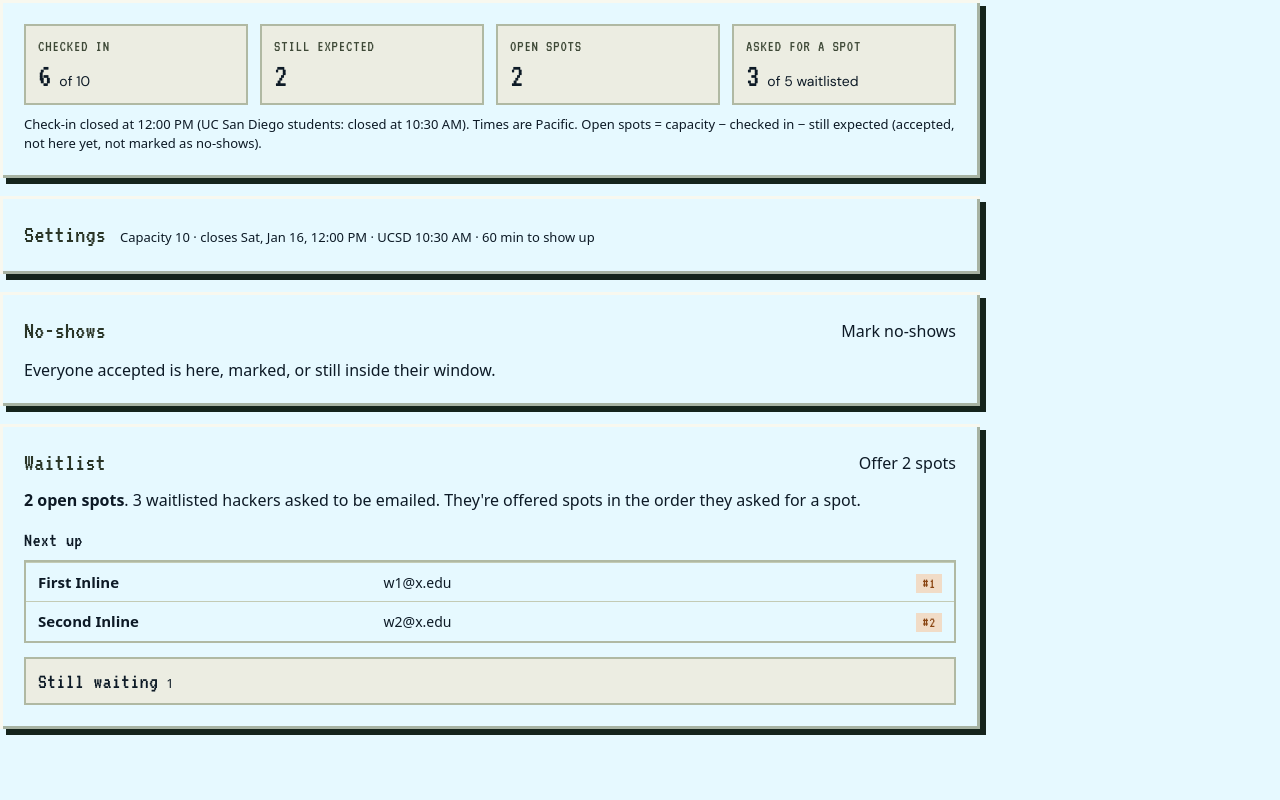
it: Day-of page › offers exactly the next people in line, then emails them and sends passes
Check: the text "First Inline" is shown, box [38,572,119,592]
Check: the text "Second Inline" is shown, box [38,611,139,631]
Click the button "Offer 2 spots". click: (907, 463)
box: [859,451,956,475]
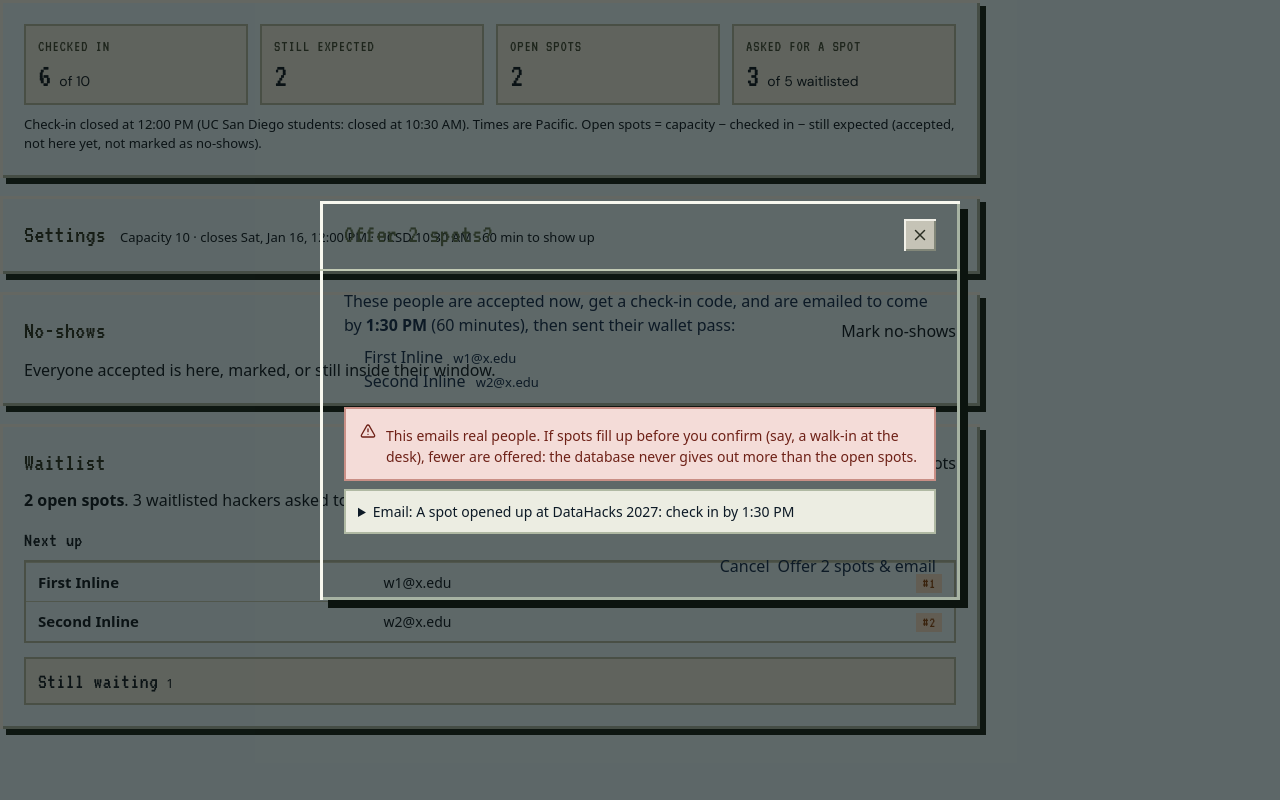
Check: the list items read "First Inline w1@x.edu", "Second Inline w2@x.edu", in this order, box [364,346,516,368]; [364,370,539,392]
Check: the text "1:30 PM" is shown, box [366,314,427,336]
Click the button "Offer 2 spots & email". click: (857, 566)
box: [778,554,936,578]
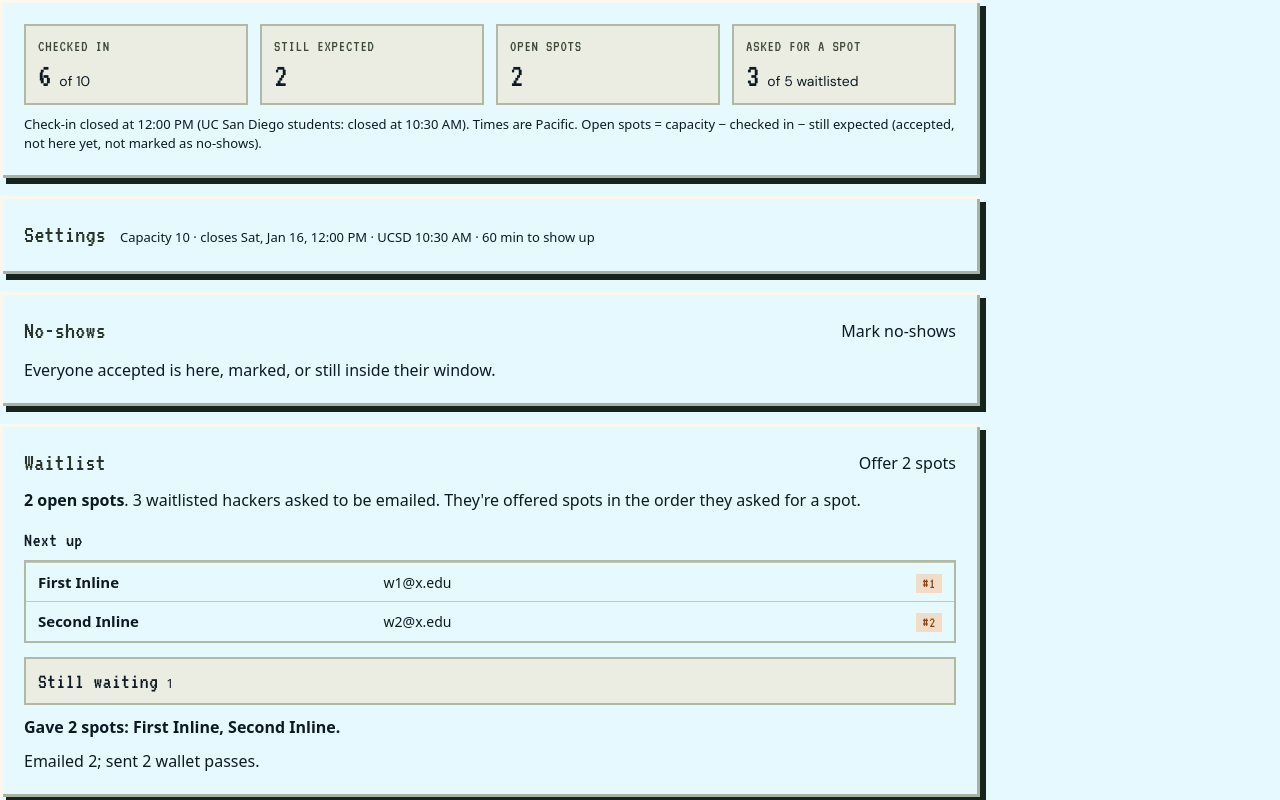
Check: the text "Gave 2 spots: First Inline, Second Inline." is shown, box [24,716,340,738]
